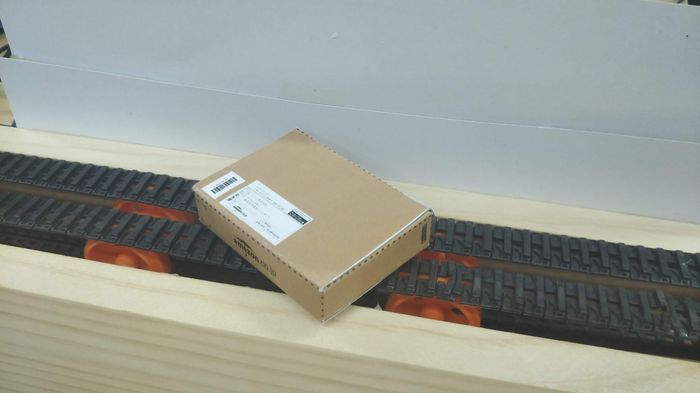box2: (191, 127, 433, 325)
